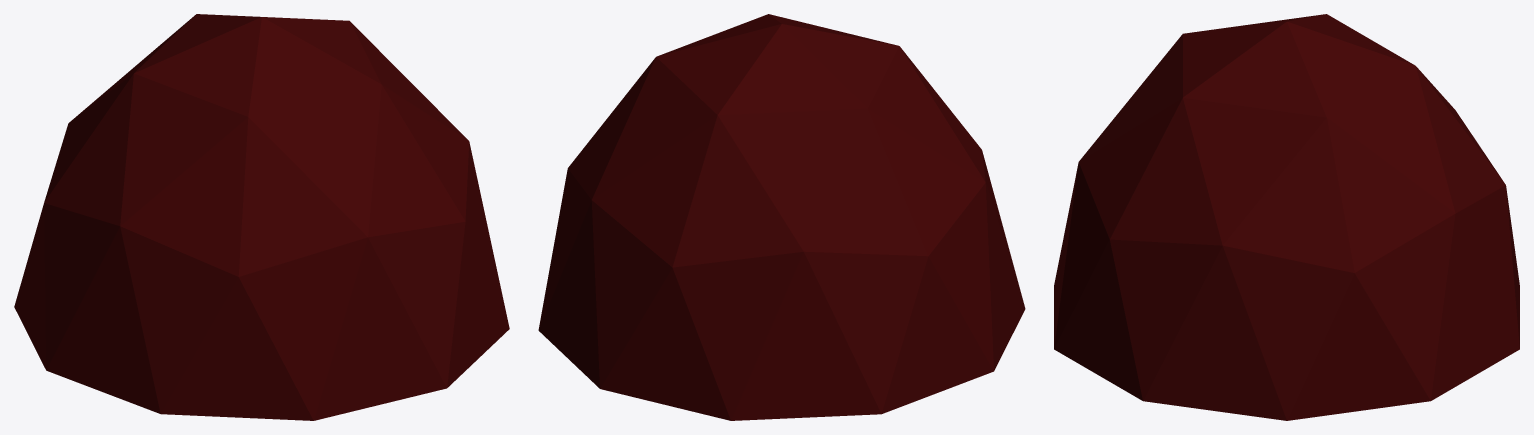
File: BuildingSeven.fbx
The picture shows the model from 3 angles, left to right: view 1: azimuth 30°, elevation 25°; view 2: azimuth 150°, elevation 25°; view 3: azimuth 270°, elevation 25°; orthographic projection.
Visible parts, largest first — view 1: Empty_Mesh; view 2: Empty_Mesh; view 3: Empty_Mesh.
Part boxes in pixels (x1,y1,x2,y2): Empty_Mesh: [14, 14, 509, 420]; Empty_Mesh: [538, 14, 1025, 420]; Empty_Mesh: [1054, 14, 1519, 420].
Bounding box in the file's own units: 600 × 400 × 571.
